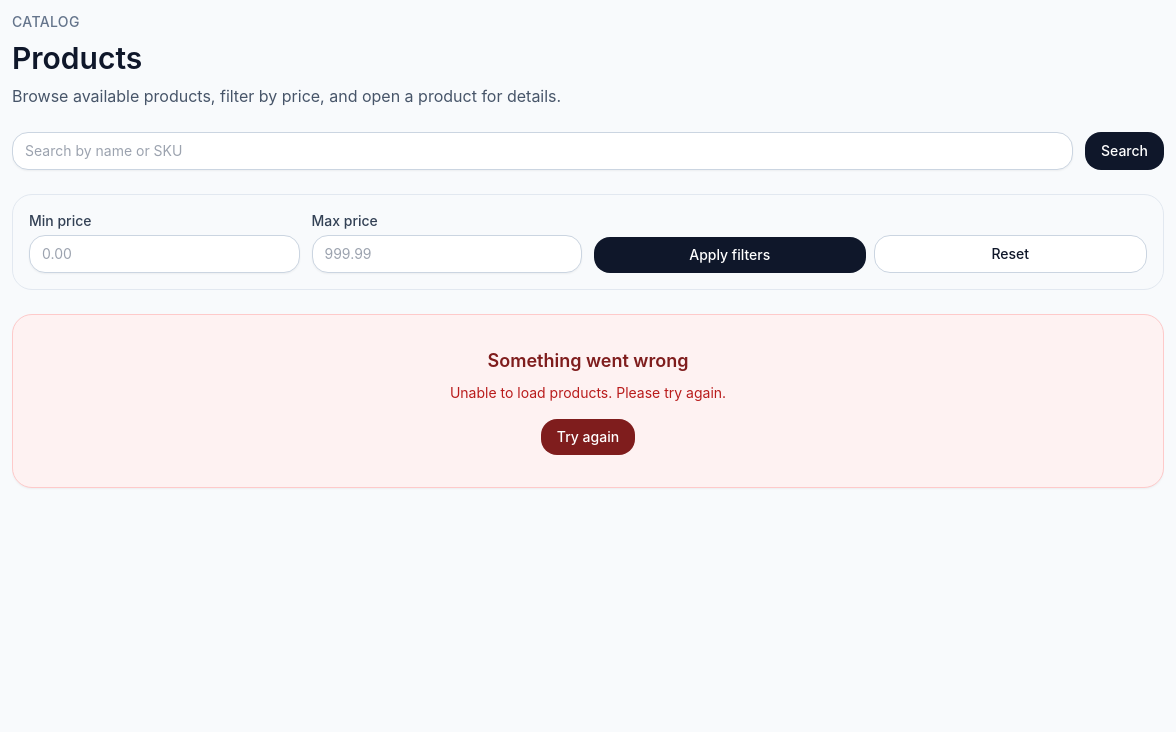
Scenario: ProductCatalogPage › renders error state with retry action
Expected: the message shows "Something went wrong", [488,350,688,371]
Expected: the message shows "Unable to load products", [450,384,726,401]
Click the button "Try again".
click(588, 437)  # box [541,419,635,455]
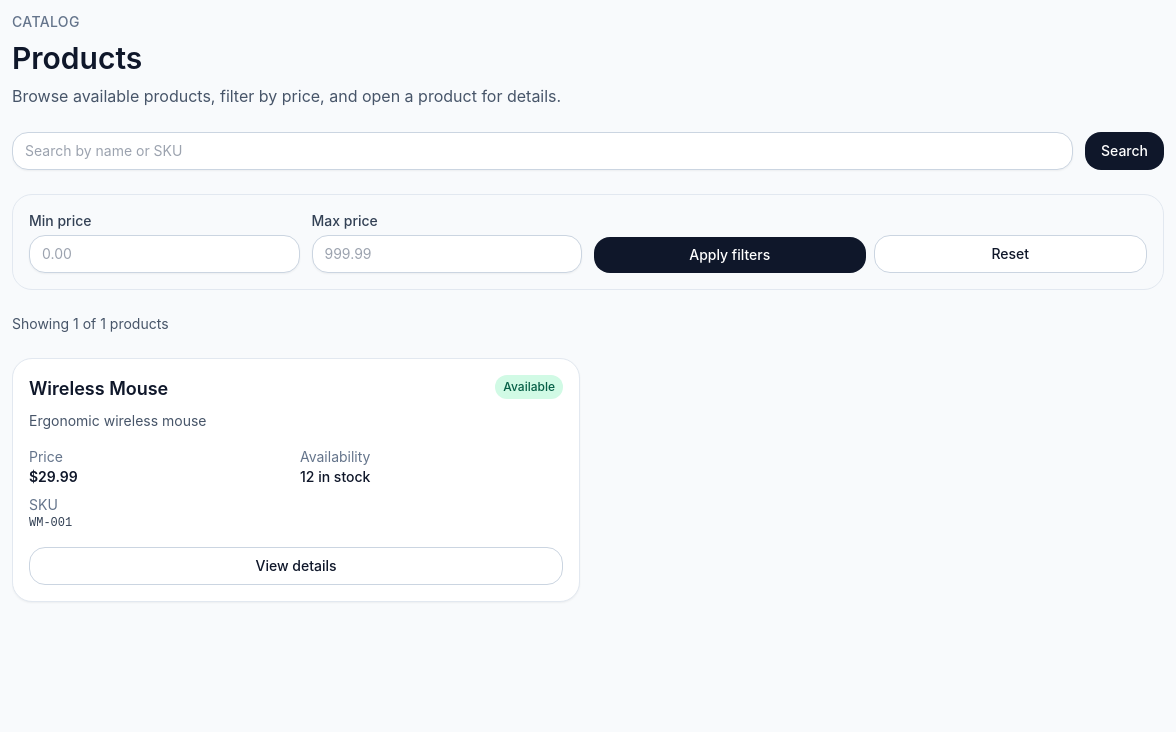
Result: the heading "Wireless Mouse" is shown at [29,375,168,403]
